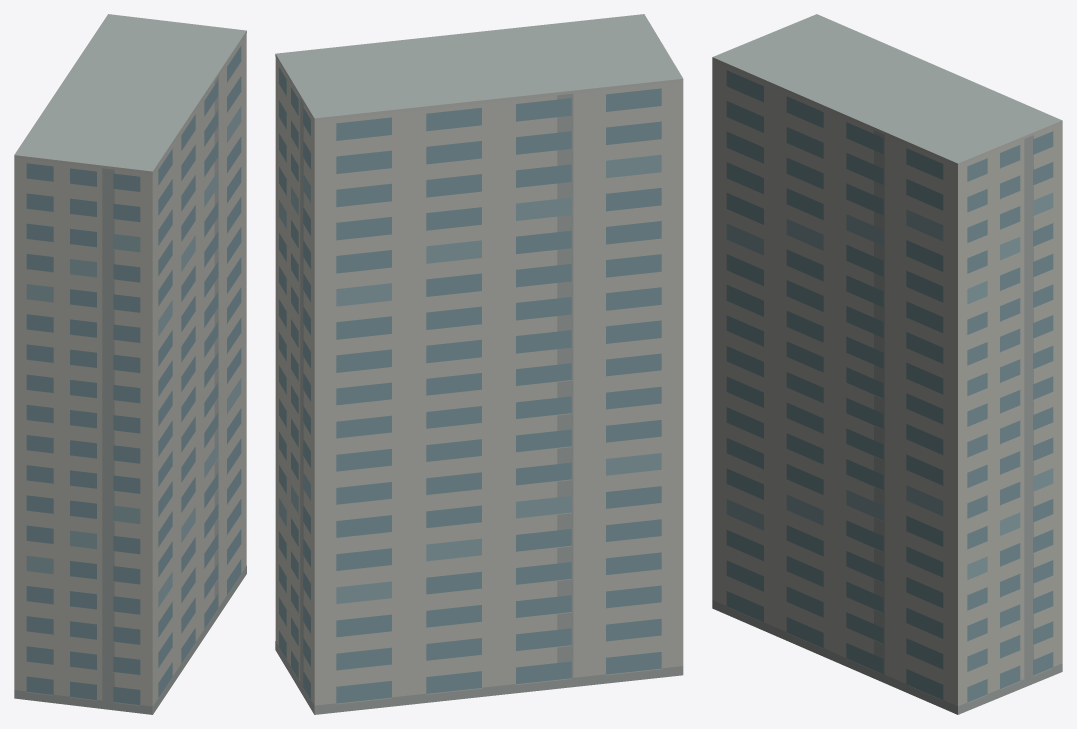
The model's file is residential-b82f5601-e6f2-4121-8135-1e4a0692f987.glb.
3 renders of one model, left to right at view 1: azimuth 30°, elevation 25°; view 2: azimuth 150°, elevation 25°; view 3: azimuth 270°, elevation 25°, orthographic. The views are drawn at different scales.
Parts seen in each view (by area): view 1: residential-b82f5601-e6f2-4121-8135-1e4a0692f987.tmp; view 2: residential-b82f5601-e6f2-4121-8135-1e4a0692f987.tmp; view 3: residential-b82f5601-e6f2-4121-8135-1e4a0692f987.tmp.
Boxes of the visible parts, x1=… form: residential-b82f5601-e6f2-4121-8135-1e4a0692f987.tmp: x1=14, y1=14, x2=246, y2=714; residential-b82f5601-e6f2-4121-8135-1e4a0692f987.tmp: x1=275, y1=14, x2=683, y2=714; residential-b82f5601-e6f2-4121-8135-1e4a0692f987.tmp: x1=712, y1=14, x2=1062, y2=714.
Size of the model in its own units: 27.93 by 48 by 27.64.
